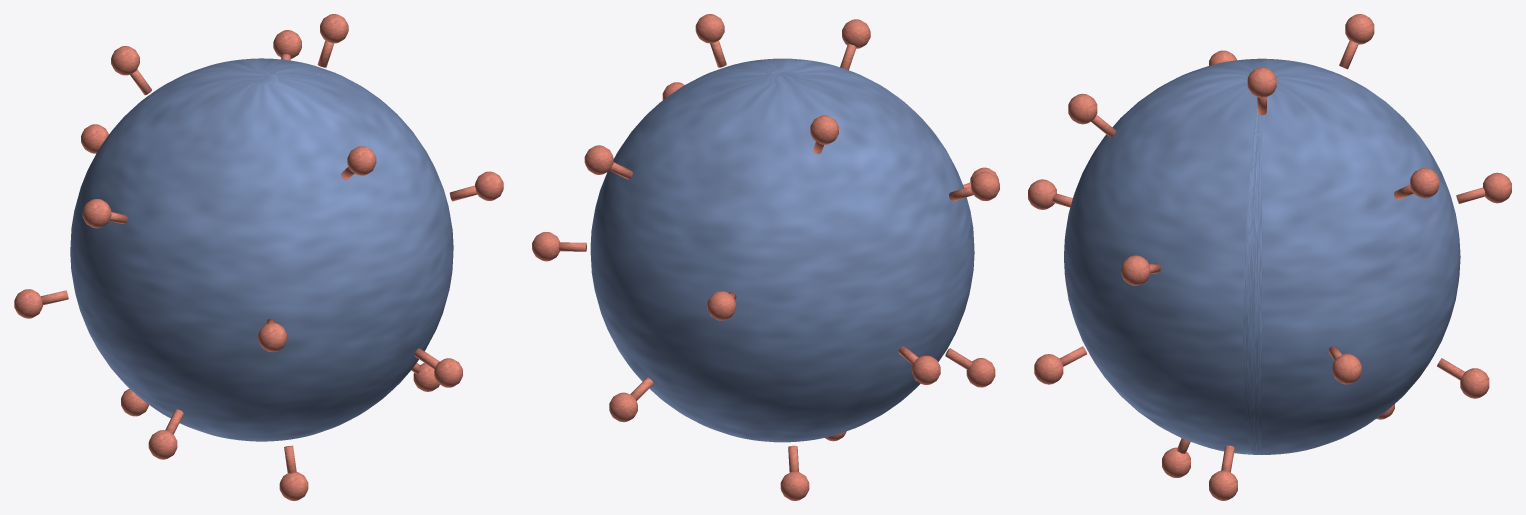
The model's file is complete.glb.
3 renders of one model, left to right at view 1: azimuth 30°, elevation 25°; view 2: azimuth 150°, elevation 25°; view 3: azimuth 270°, elevation 25°, orthographic. The views are drawn at different scales.
Parts seen in each view (by area): view 1: envelope_mesh, espiculas_mesh; view 2: envelope_mesh, espiculas_mesh; view 3: envelope_mesh, espiculas_mesh.
Boxes of the visible parts, left/top/right/bottom form: envelope_mesh: left=70, top=58, right=453, bottom=441; espiculas_mesh: left=14, top=14, right=503, bottom=500; envelope_mesh: left=590, top=58, right=974, bottom=442; espiculas_mesh: left=532, top=14, right=999, bottom=500; envelope_mesh: left=1064, top=58, right=1460, bottom=454; espiculas_mesh: left=1028, top=14, right=1511, bottom=500.
Size of the model in its own units: 2.46 by 2.5 by 2.44.
4 materials, 4 textured.
